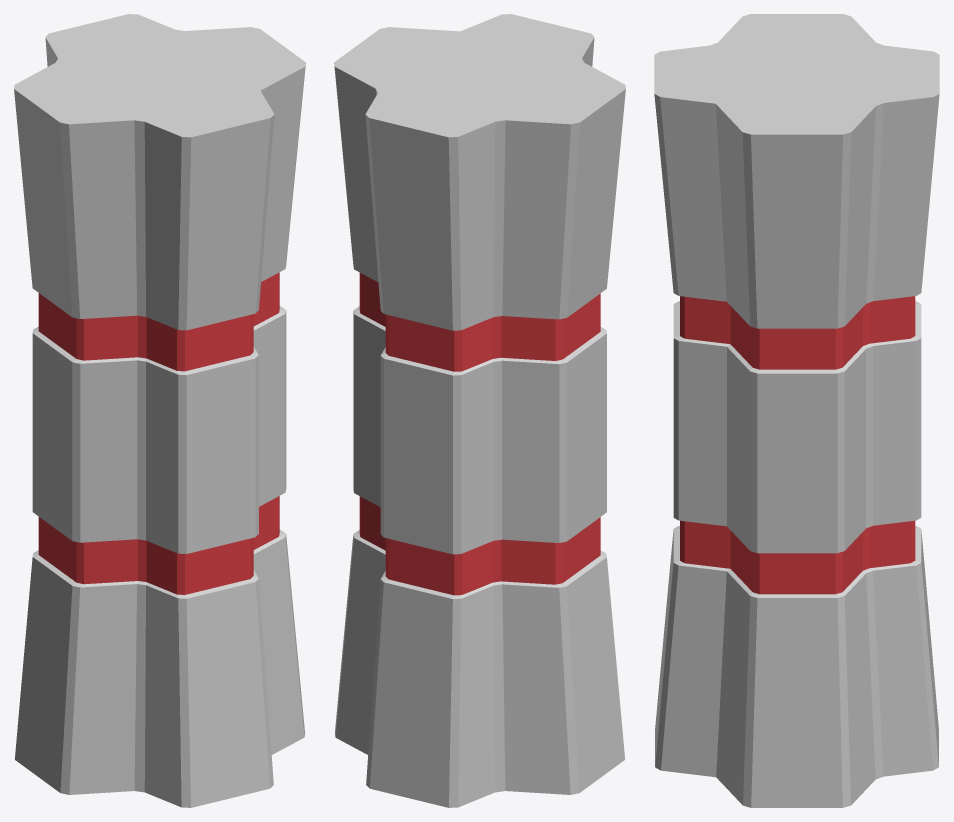
File: column.fbx
3 renders of one model, left to right at view 1: azimuth 30°, elevation 25°; view 2: azimuth 150°, elevation 25°; view 3: azimuth 270°, elevation 25°, orthographic.
Parts seen in each view (by area): view 1: Cube; view 2: Cube; view 3: Cube.
Part boxes in pixels (box(x1,y1,x2,y2)): Cube: box(14, 14, 305, 807); Cube: box(334, 14, 625, 807); Cube: box(654, 14, 939, 807).
Size of the model in its own units: 2.3 by 6 by 2.3.
